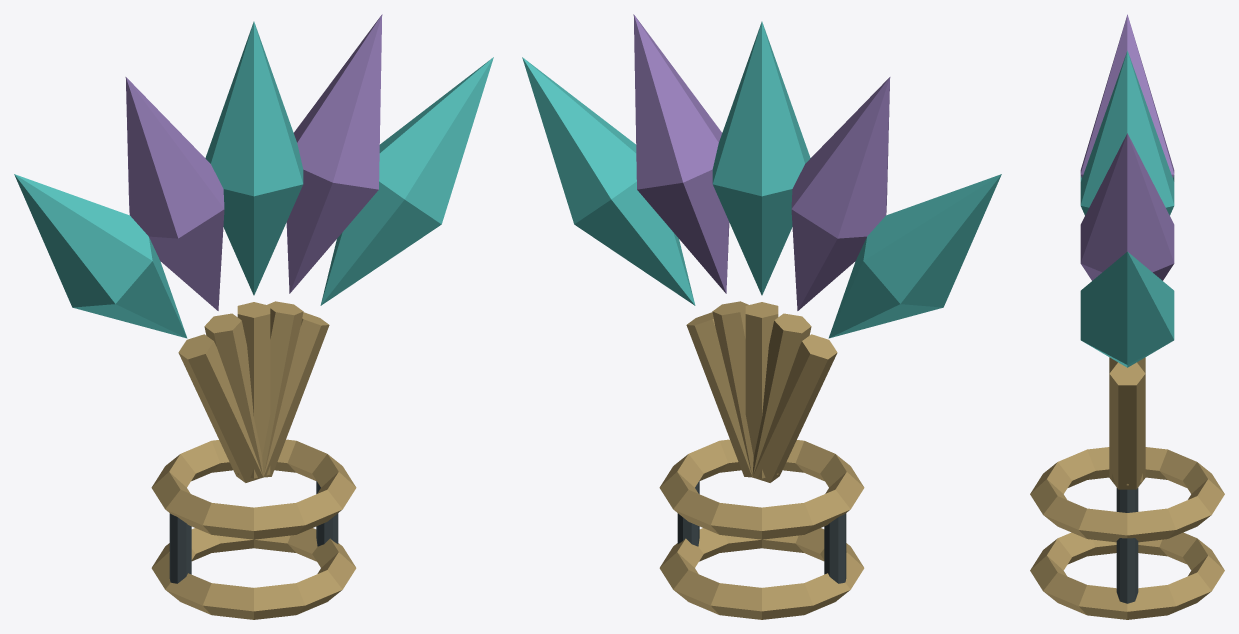
File: Equip_PrismFan.fbx
3 views of the same model, side by side, from view 1: azimuth 30°, elevation 25°; view 2: azimuth 150°, elevation 25°; view 3: azimuth 270°, elevation 25° (orthographic). The views are drawn at different scales.
Parts seen in each view (by area): view 1: Equip_PrismFan; view 2: Equip_PrismFan; view 3: Equip_PrismFan.
Part boxes in pixels (bbox=[...]): Equip_PrismFan: bbox=[14, 14, 493, 619]; Equip_PrismFan: bbox=[522, 14, 1001, 619]; Equip_PrismFan: bbox=[1030, 14, 1224, 619].
Size of the model in its own units: 0.4378 by 0.491 by 0.162.
